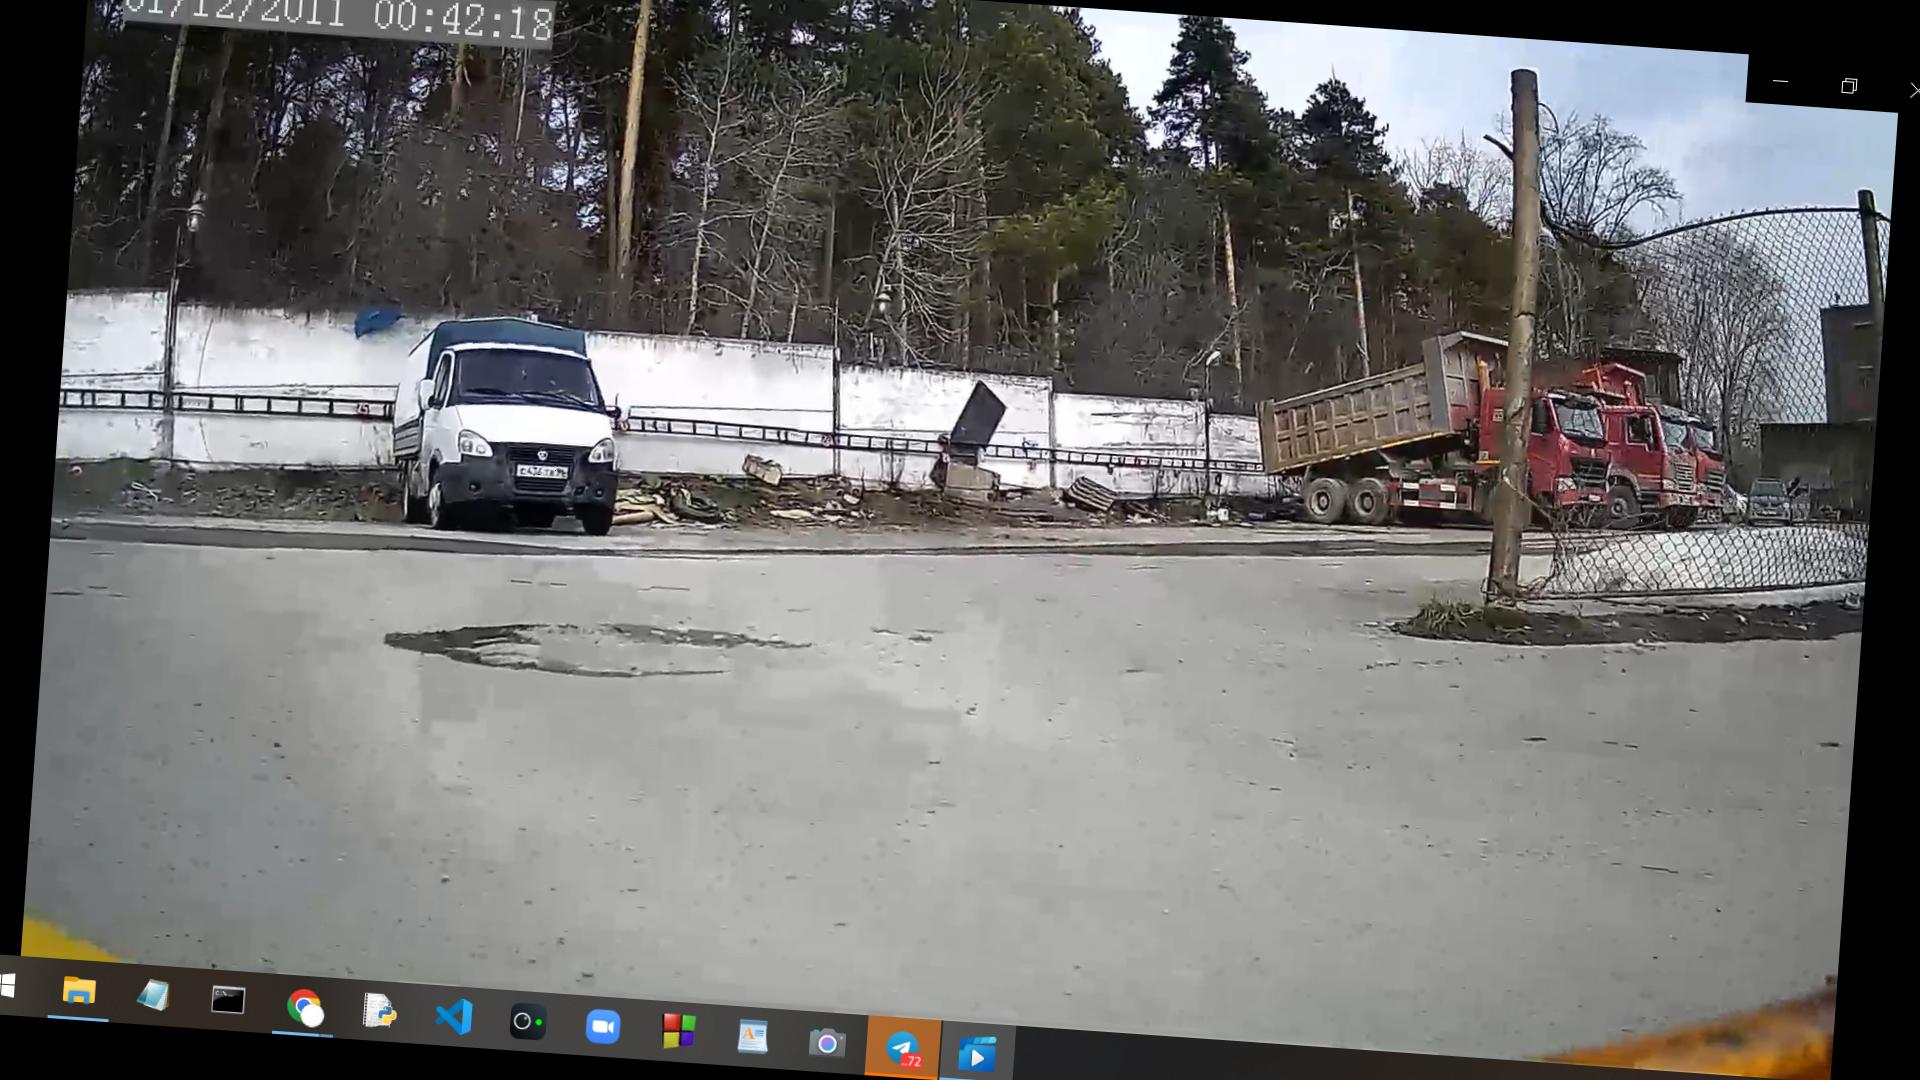plate: (518, 468, 570, 481)
